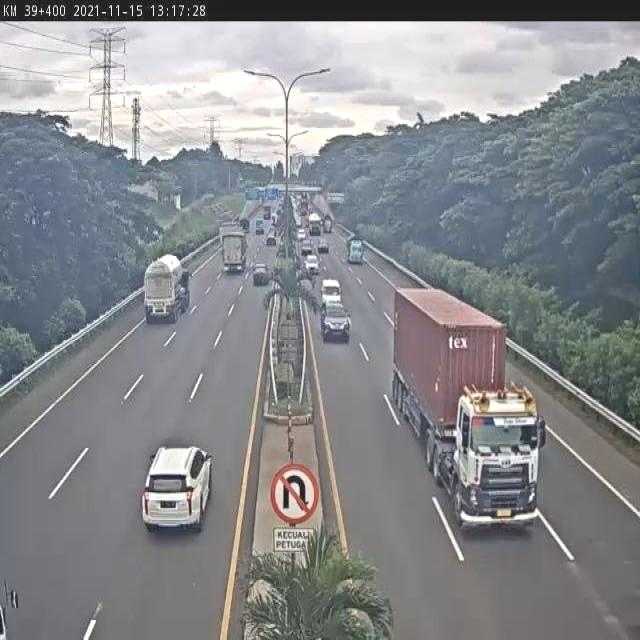Car: (141, 444, 213, 532), (319, 300, 352, 344), (320, 278, 342, 310), (253, 262, 271, 286), (304, 254, 319, 275), (300, 238, 313, 256), (266, 228, 276, 245), (318, 240, 329, 254), (297, 228, 306, 242)
Truck: (390, 285, 544, 534), (143, 252, 190, 324), (220, 229, 248, 277), (346, 234, 364, 264), (308, 211, 321, 236), (238, 216, 250, 236), (323, 214, 333, 233), (254, 219, 264, 234), (262, 205, 272, 219), (300, 199, 308, 216)
